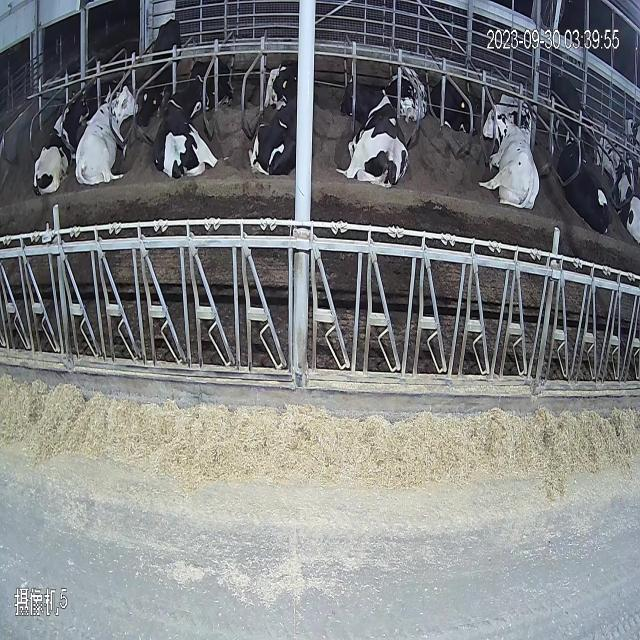lying down: (82, 71, 150, 212), (340, 57, 400, 212), (246, 57, 312, 196), (548, 130, 628, 242), (480, 93, 542, 219), (150, 74, 216, 190), (38, 71, 90, 206)
